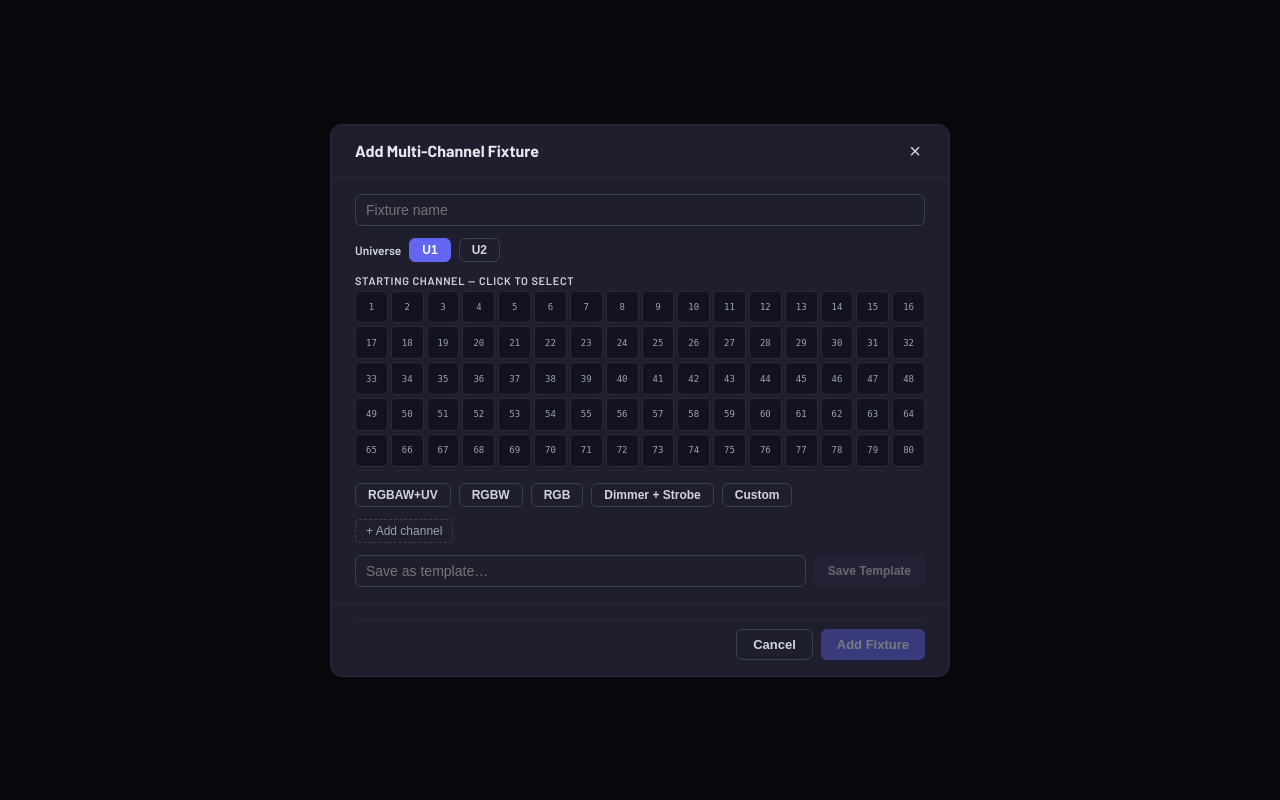
Test case: CreateFixtureModal › clicking a channel cell and a preset shows the matching channel rows
Click the text titled "Channel 5".
click(515, 307)  # box [498,290,531,323]
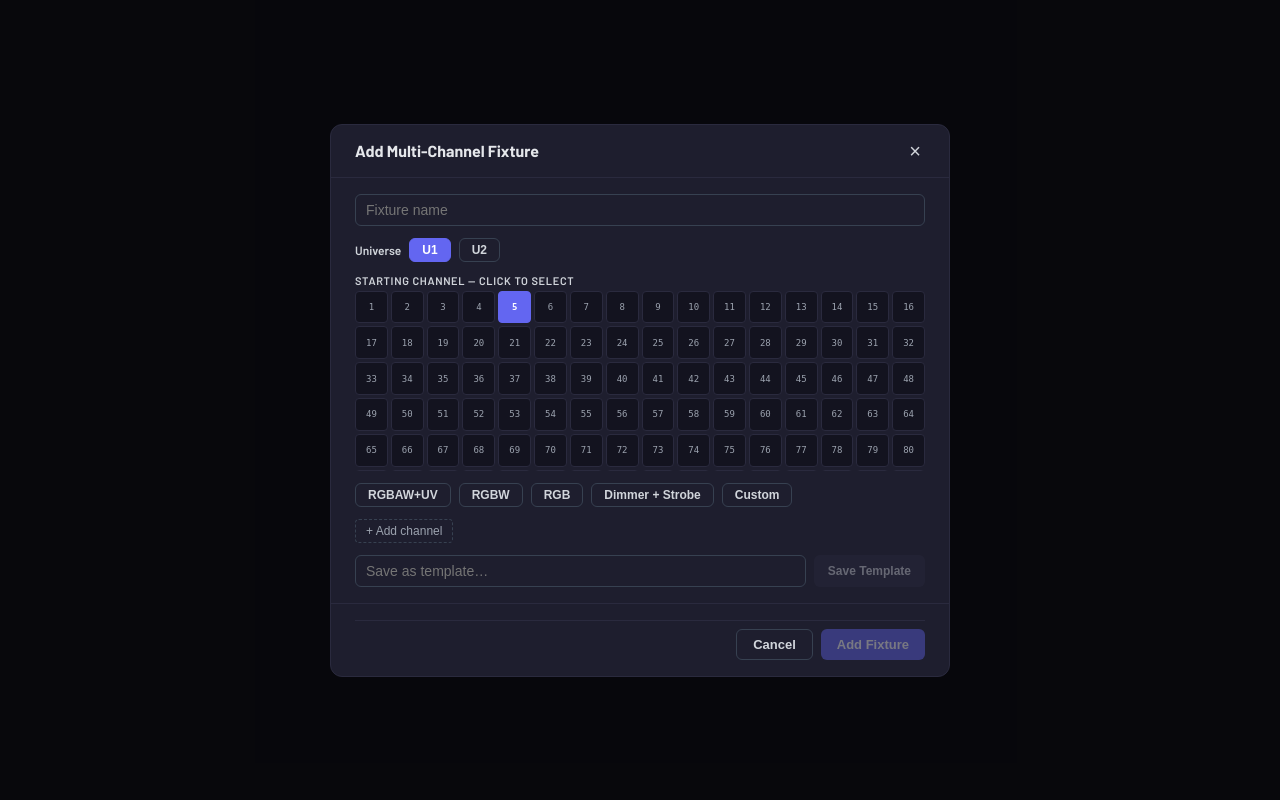
Click the button "RGBAW+UV".
click(403, 494)  # box [355,482,451,506]
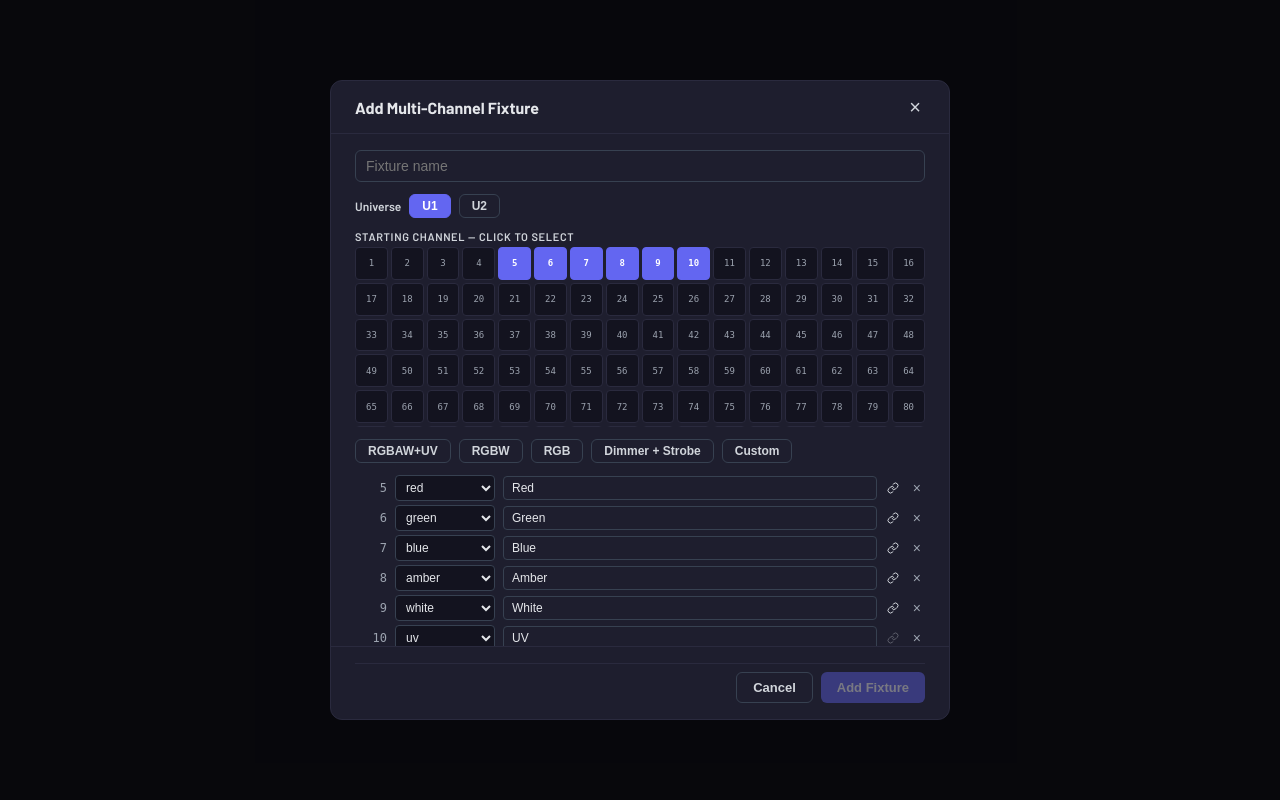
Expected: the 1st field showing "Red" is shown, [503,476,877,500]
Expected: the 6th field showing "UV" is shown, [503,626,877,646]
